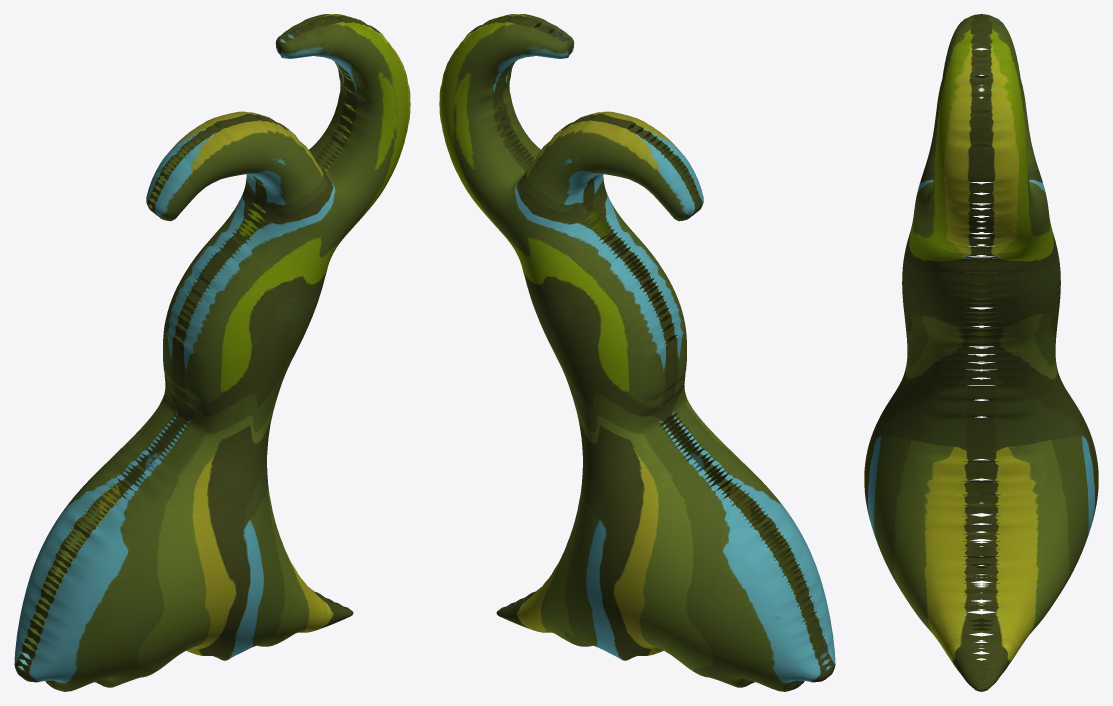
The model's file is hooked_sprout.glb.
The picture shows the model from 3 angles, left to right: view 1: azimuth 30°, elevation 25°; view 2: azimuth 150°, elevation 25°; view 3: azimuth 270°, elevation 25°; orthographic projection. The views are drawn at different scales.
Parts seen in each view (by area): view 1: hooked_sprout; view 2: hooked_sprout; view 3: hooked_sprout.
Part boxes in pixels (<box>): hooked_sprout: <box>14,14,410,691</box>; hooked_sprout: <box>439,14,835,691</box>; hooked_sprout: <box>864,14,1098,691</box>.
Size of the model in its own units: 0.9831 by 1.5 by 0.4827.
Materials: 1 (1 with a texture image).
